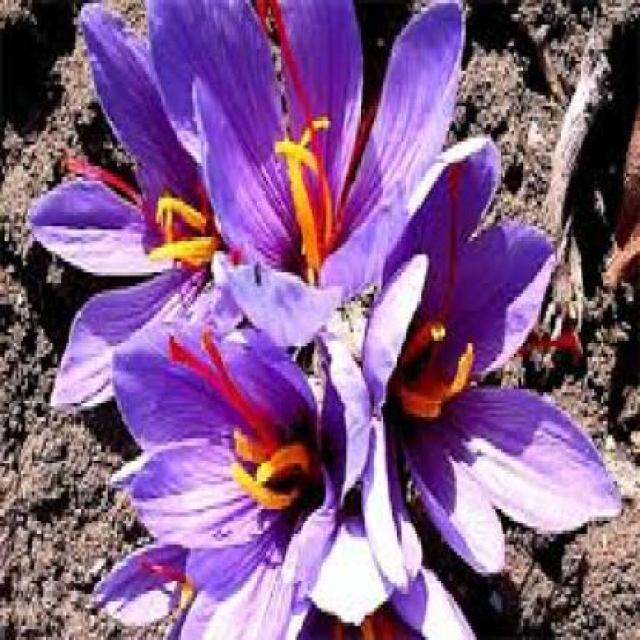Flower: (358, 139, 622, 584), (143, 0, 474, 331), (111, 334, 372, 640)
stigma: (165, 321, 272, 440), (263, 0, 315, 131), (431, 156, 467, 322), (61, 150, 149, 217), (521, 325, 581, 357), (140, 549, 186, 590)
